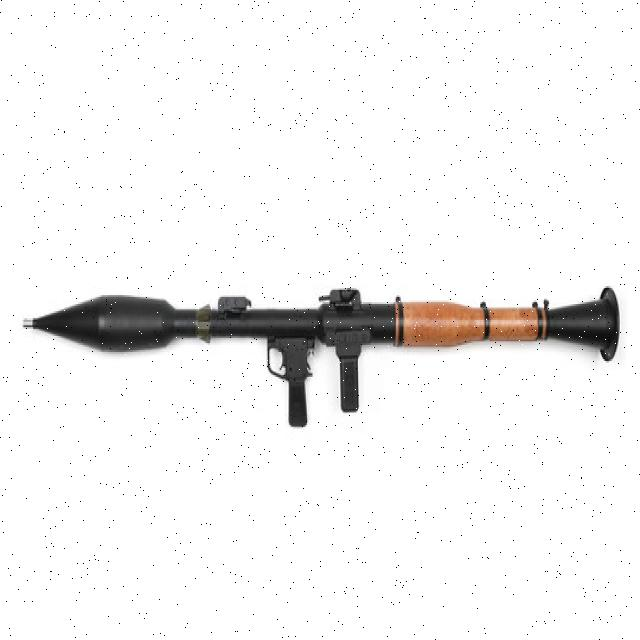bazooka: (20, 275, 624, 436)
